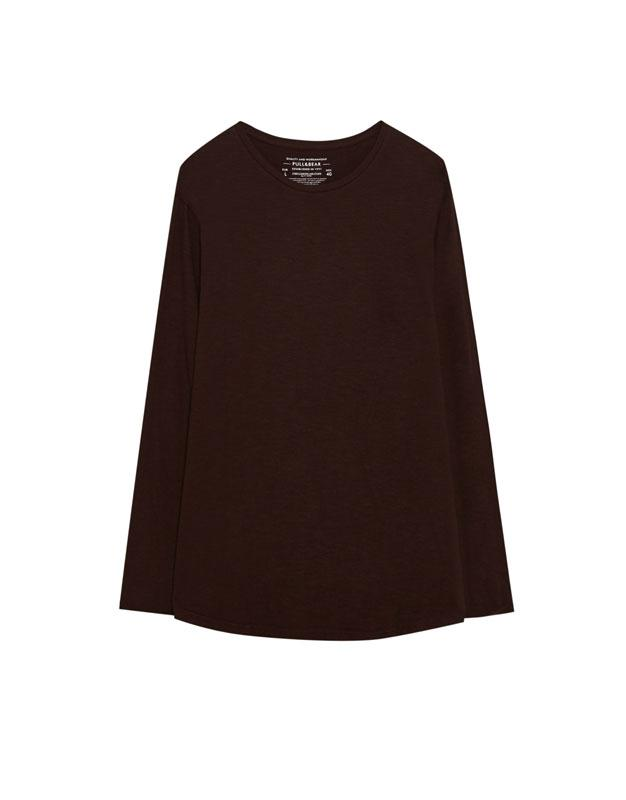teeshirt: (106, 112, 559, 750)
